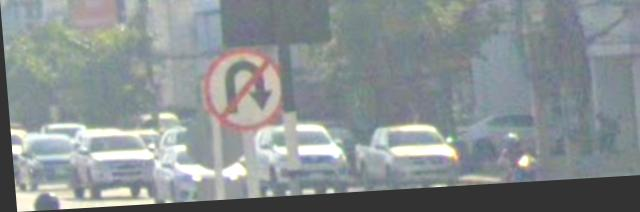not_u_turn_right: (199, 46, 286, 136)
